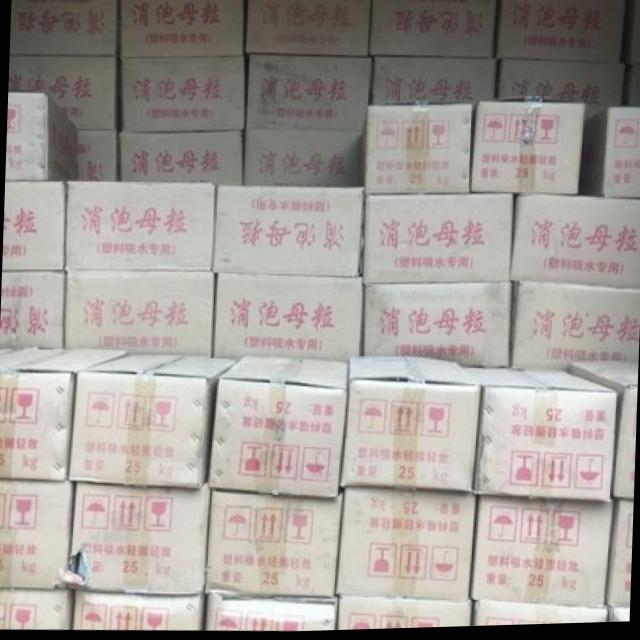box: (68, 355, 237, 489), (462, 367, 616, 503), (339, 355, 482, 495), (208, 356, 346, 500), (60, 481, 211, 595), (0, 346, 128, 479), (334, 491, 477, 604), (471, 497, 611, 609), (205, 491, 341, 599), (64, 182, 214, 273), (214, 185, 363, 276), (363, 196, 511, 286), (63, 271, 214, 358), (213, 275, 362, 361), (362, 283, 511, 368), (511, 196, 640, 291), (512, 283, 640, 373), (471, 99, 585, 195), (360, 105, 474, 196), (245, 56, 372, 134), (567, 365, 638, 504), (122, 57, 243, 131), (497, 0, 625, 65), (0, 477, 72, 590), (495, 62, 626, 124), (8, 54, 115, 129), (370, 0, 499, 60), (246, 0, 371, 57), (119, 0, 243, 56), (118, 131, 243, 185), (243, 131, 361, 188), (5, 91, 77, 180), (9, 0, 117, 56), (369, 60, 495, 105), (580, 109, 640, 201), (2, 181, 64, 270), (69, 590, 203, 631), (0, 270, 63, 347), (205, 598, 336, 633), (335, 599, 470, 632), (472, 604, 607, 629), (0, 589, 72, 630), (77, 130, 118, 181)
